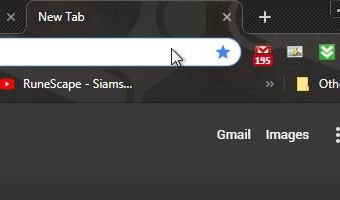cursor: (170, 46, 183, 67)
